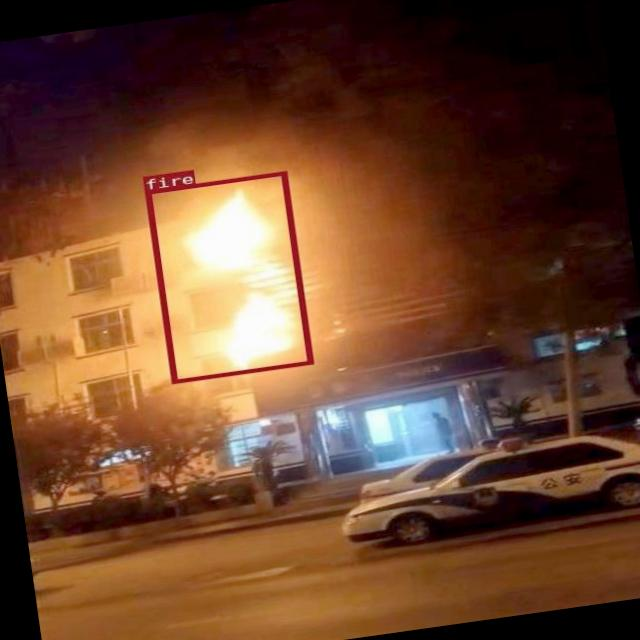fire: (144, 170, 313, 384)
